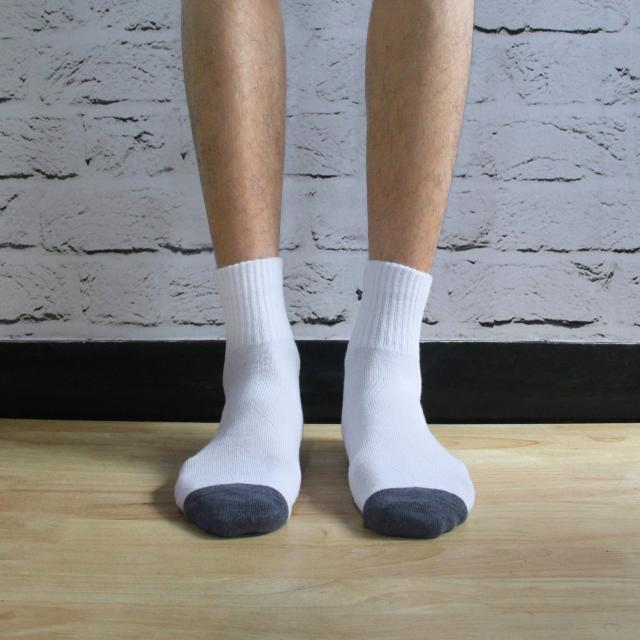sock: (341, 259, 475, 538), (174, 255, 304, 537)
